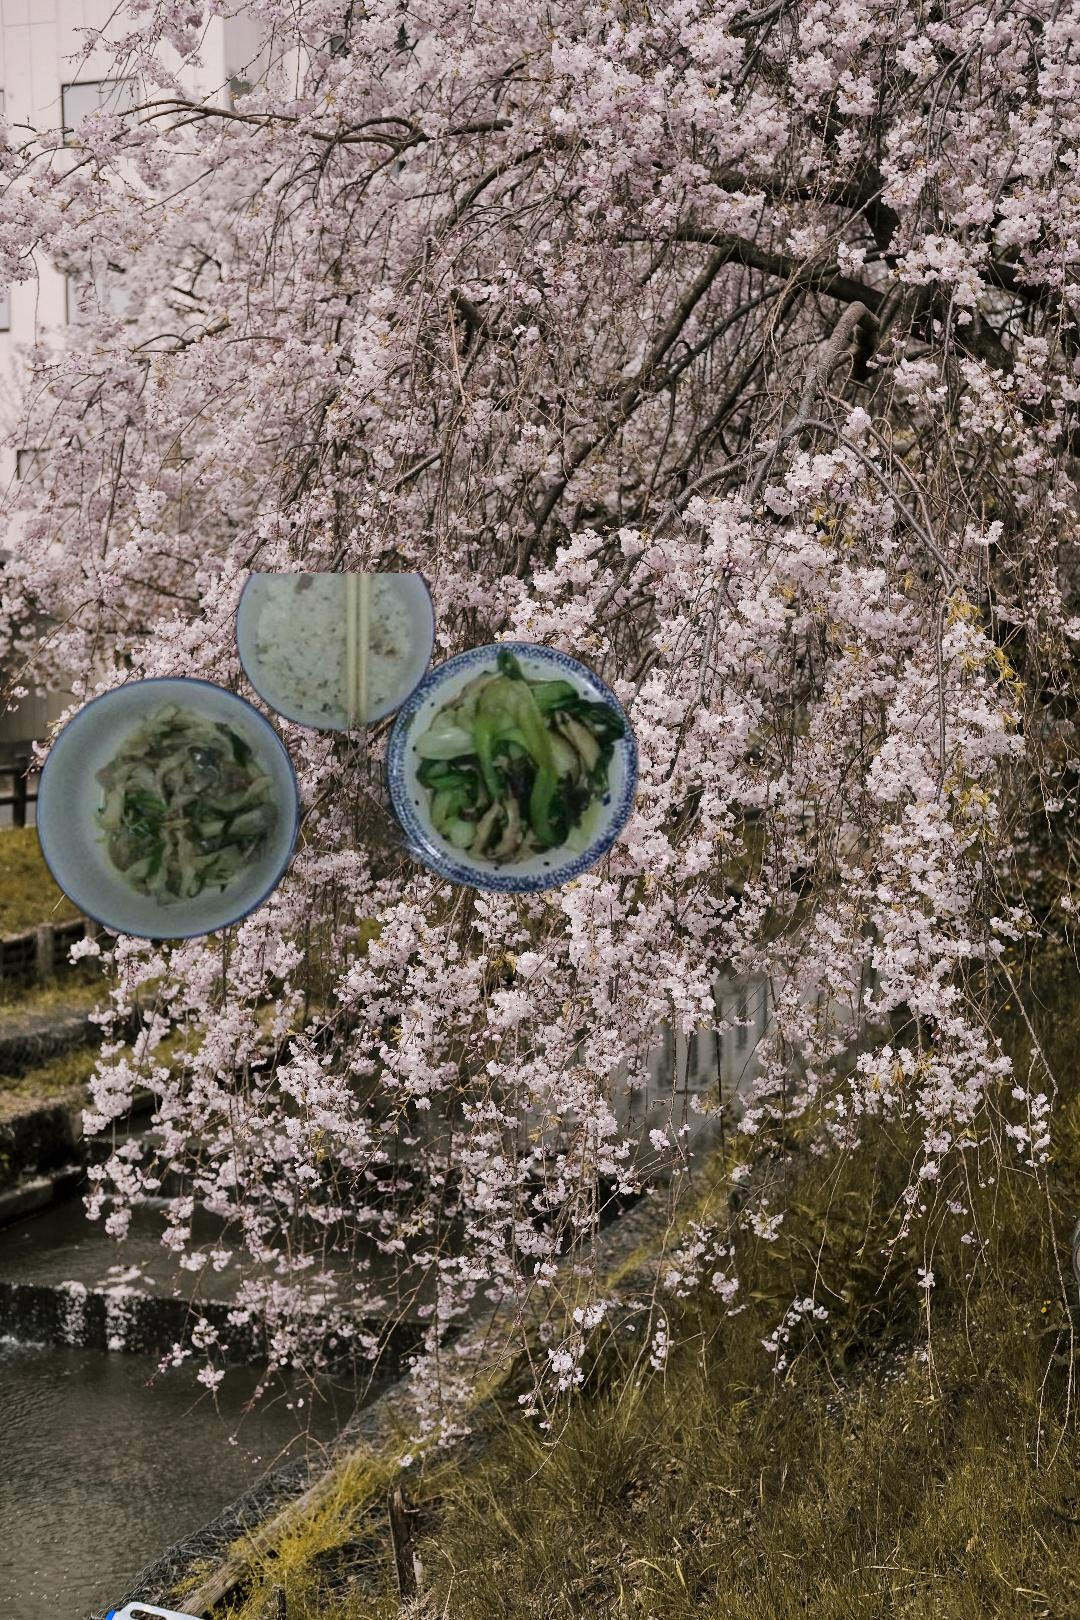biological: (30, 573, 644, 1021)
plastic-bottles: (98, 1593, 257, 1620)
shoes: (1069, 1190, 1080, 1397)
